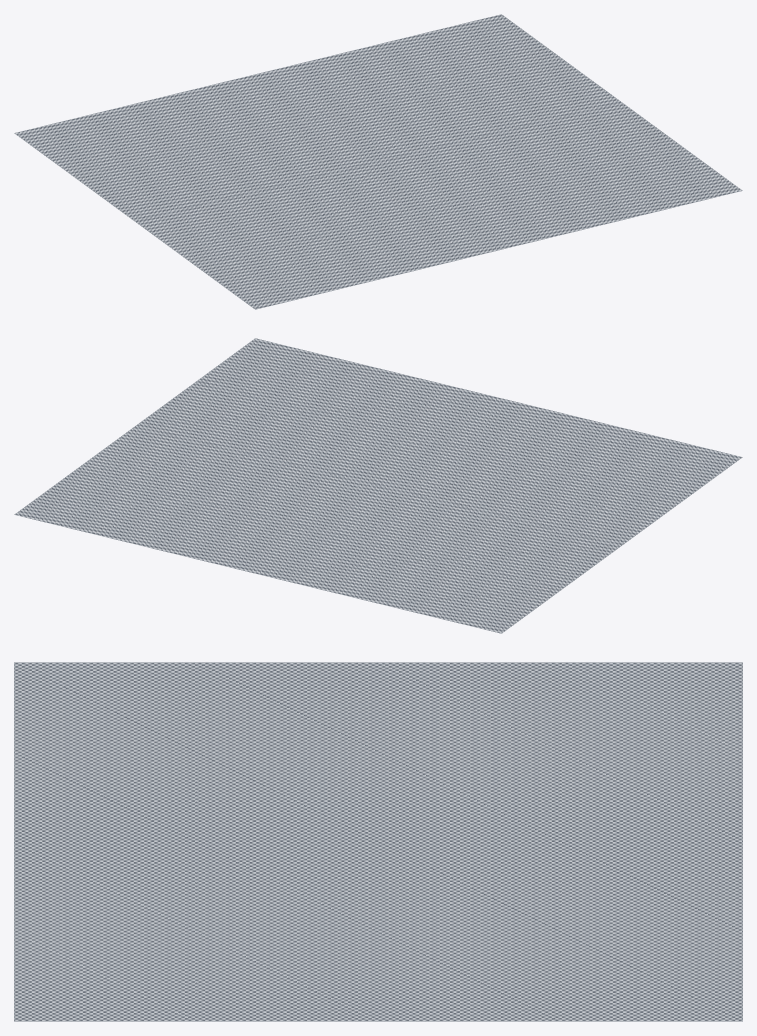
File: flatPlane.fbx
3 views of the same model, one above another, from view 1: azimuth 30°, elevation 25°; view 2: azimuth 150°, elevation 25°; view 3: azimuth 270°, elevation 25° (orthographic). The views are drawn at different scales.
Visible parts, largest first — view 1: levelGeometry; view 2: levelGeometry; view 3: levelGeometry.
Boxes of the visible parts, bbox=[...] form: levelGeometry: bbox=[14, 14, 742, 309]; levelGeometry: bbox=[14, 338, 742, 633]; levelGeometry: bbox=[14, 662, 742, 1021].
Bounding box in the file's own units: 20012 × 17149 × 0.
Materials: 1 (1 with a texture image).
